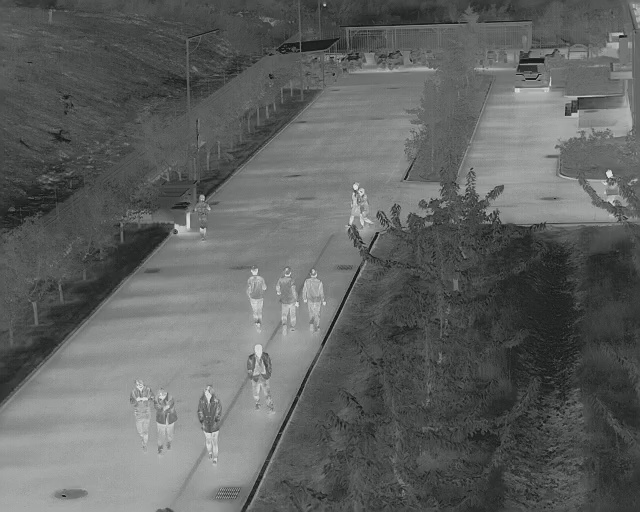person: (246, 342, 276, 414), (198, 384, 223, 466), (275, 266, 299, 335), (153, 388, 177, 453), (130, 379, 152, 448), (303, 267, 324, 335), (247, 264, 267, 330), (347, 180, 372, 226), (195, 193, 210, 240)
vehicle: (513, 57, 552, 94)
